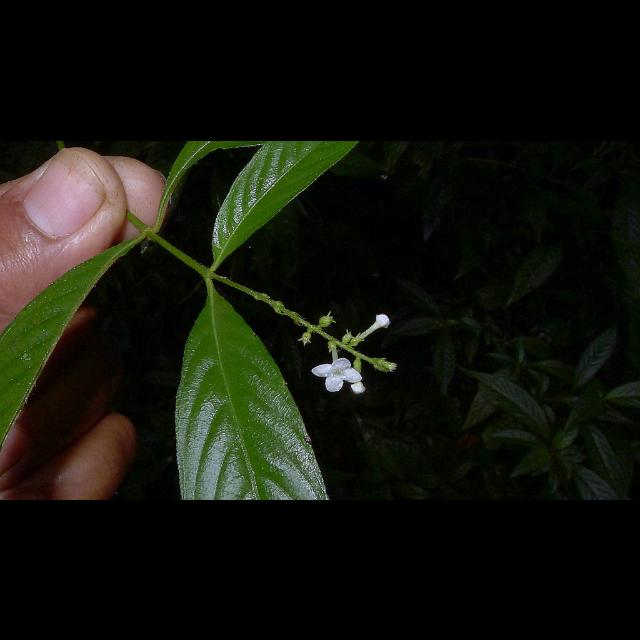Flower: (312, 344, 360, 390), (352, 315, 390, 345), (349, 356, 366, 392)
